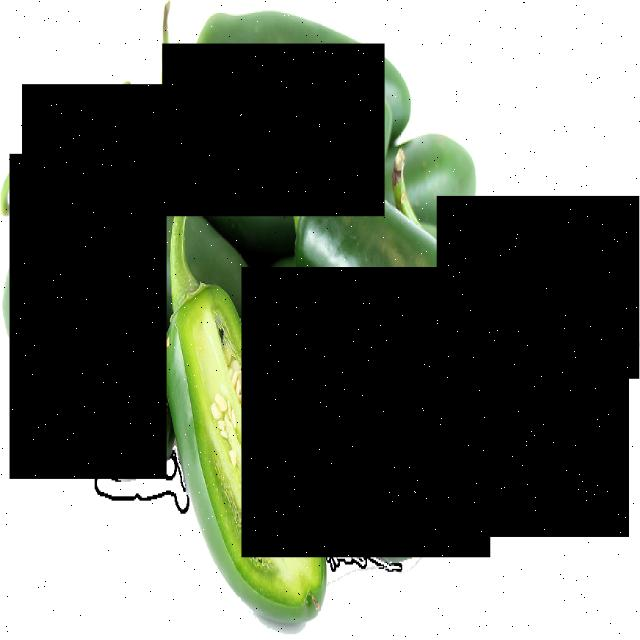Chili_Pepper: (136, 220, 328, 615), (242, 268, 490, 558), (10, 154, 168, 479), (453, 298, 630, 537), (162, 45, 385, 217), (436, 196, 640, 379), (23, 86, 214, 200)
